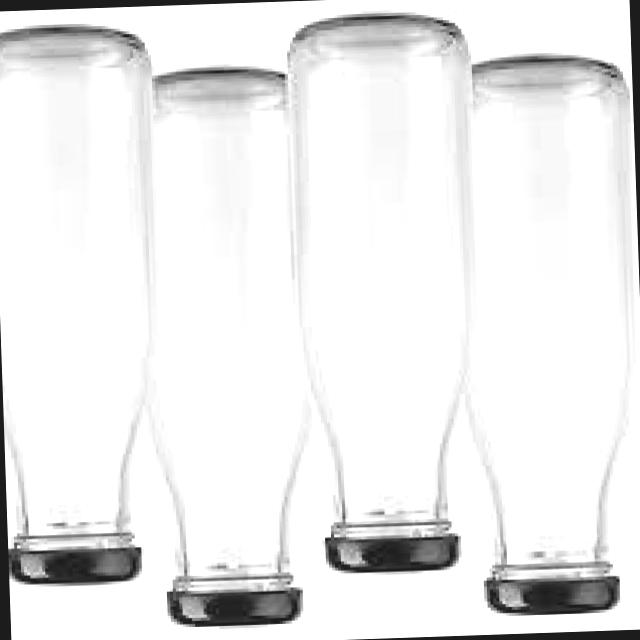chai_thuy_tinh: (295, 17, 471, 536), (474, 60, 639, 575), (155, 71, 311, 574), (0, 28, 153, 532)
kim_loai: (170, 591, 302, 626), (329, 537, 460, 570), (488, 580, 622, 612), (9, 548, 141, 580)
